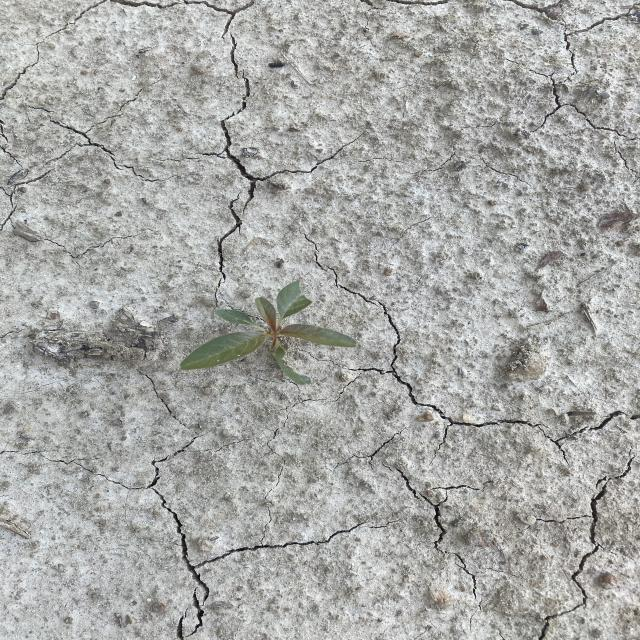Waterhemp: (177, 277, 360, 386)
